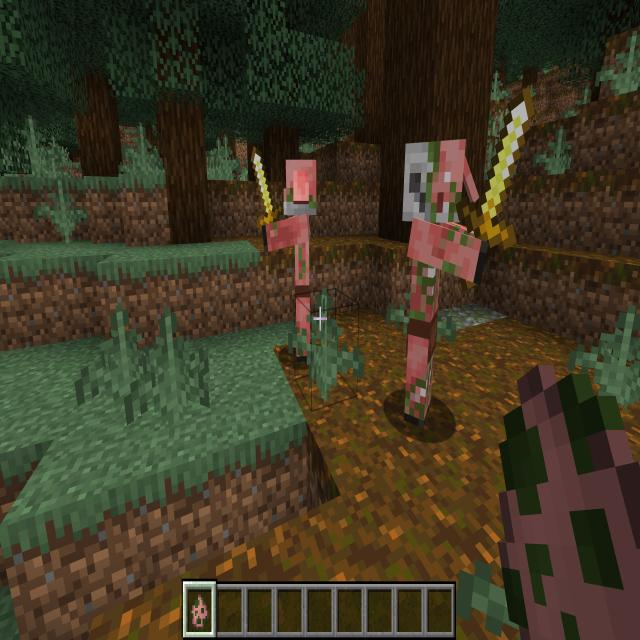Zombified Piglin: (398, 84, 536, 438), (248, 141, 318, 365)
